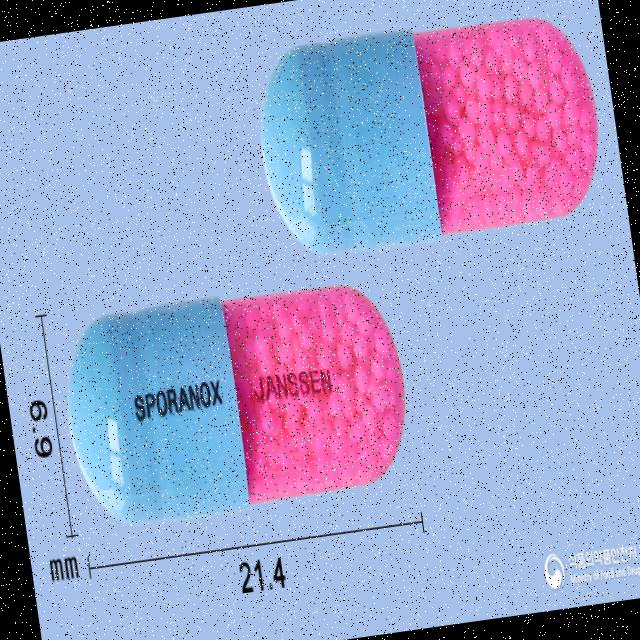Sporanox Cap: (246, 1, 608, 260), (54, 274, 420, 524)
